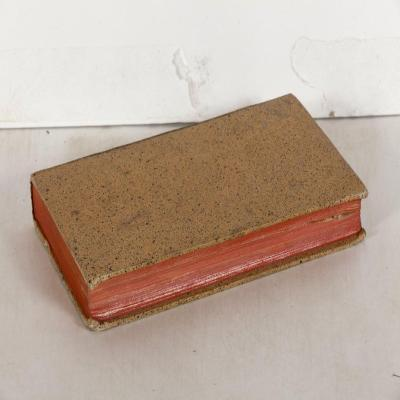rare_books: (30, 95, 368, 333)
